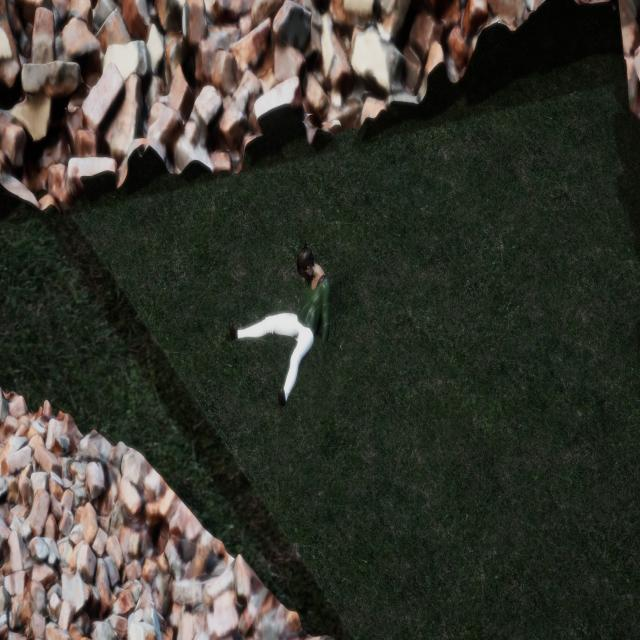Human: (220, 229, 331, 413)
